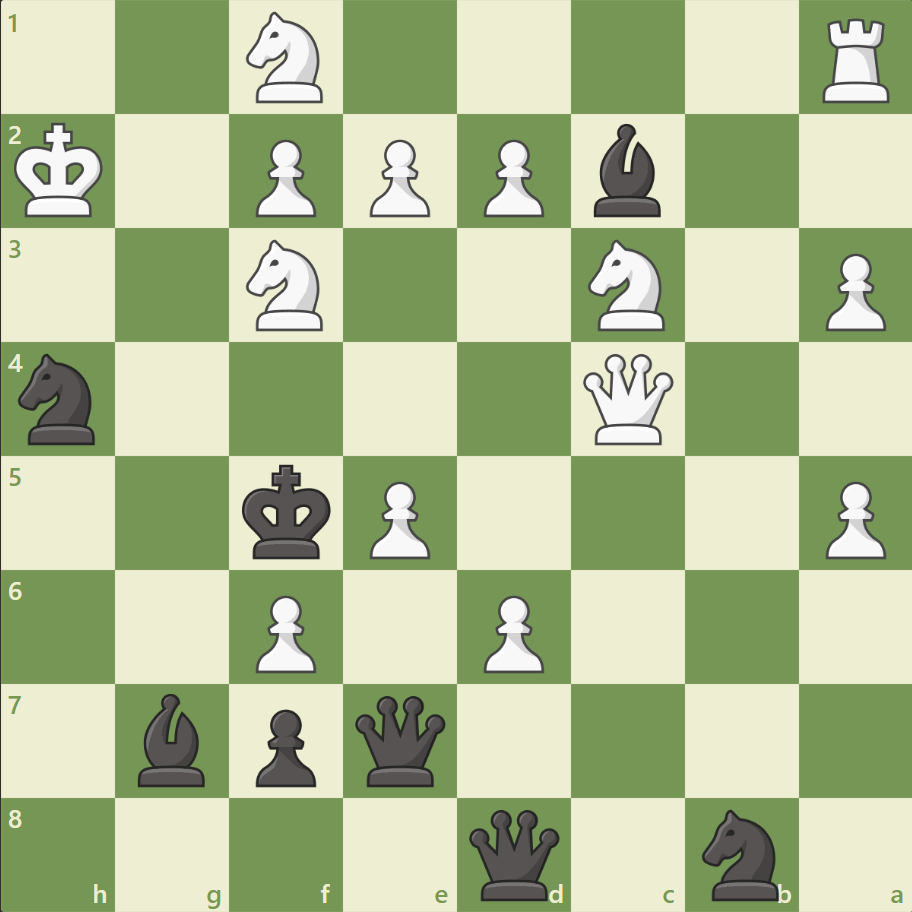K: (11, 117, 111, 225)
N: (579, 234, 676, 337), (238, 234, 335, 337), (238, 7, 335, 110)
P: (474, 586, 549, 677), (247, 586, 322, 677), (474, 132, 549, 223), (247, 132, 322, 223), (815, 473, 889, 564), (361, 473, 435, 564), (815, 246, 889, 337), (361, 132, 435, 223)
Q: (578, 349, 677, 449)
R: (814, 12, 897, 109)
b: (131, 687, 215, 790), (585, 120, 669, 222)
k: (238, 458, 338, 566)
n: (692, 802, 789, 904), (11, 348, 108, 450)
p: (247, 700, 322, 791)
q: (464, 804, 563, 903), (351, 690, 450, 789)
